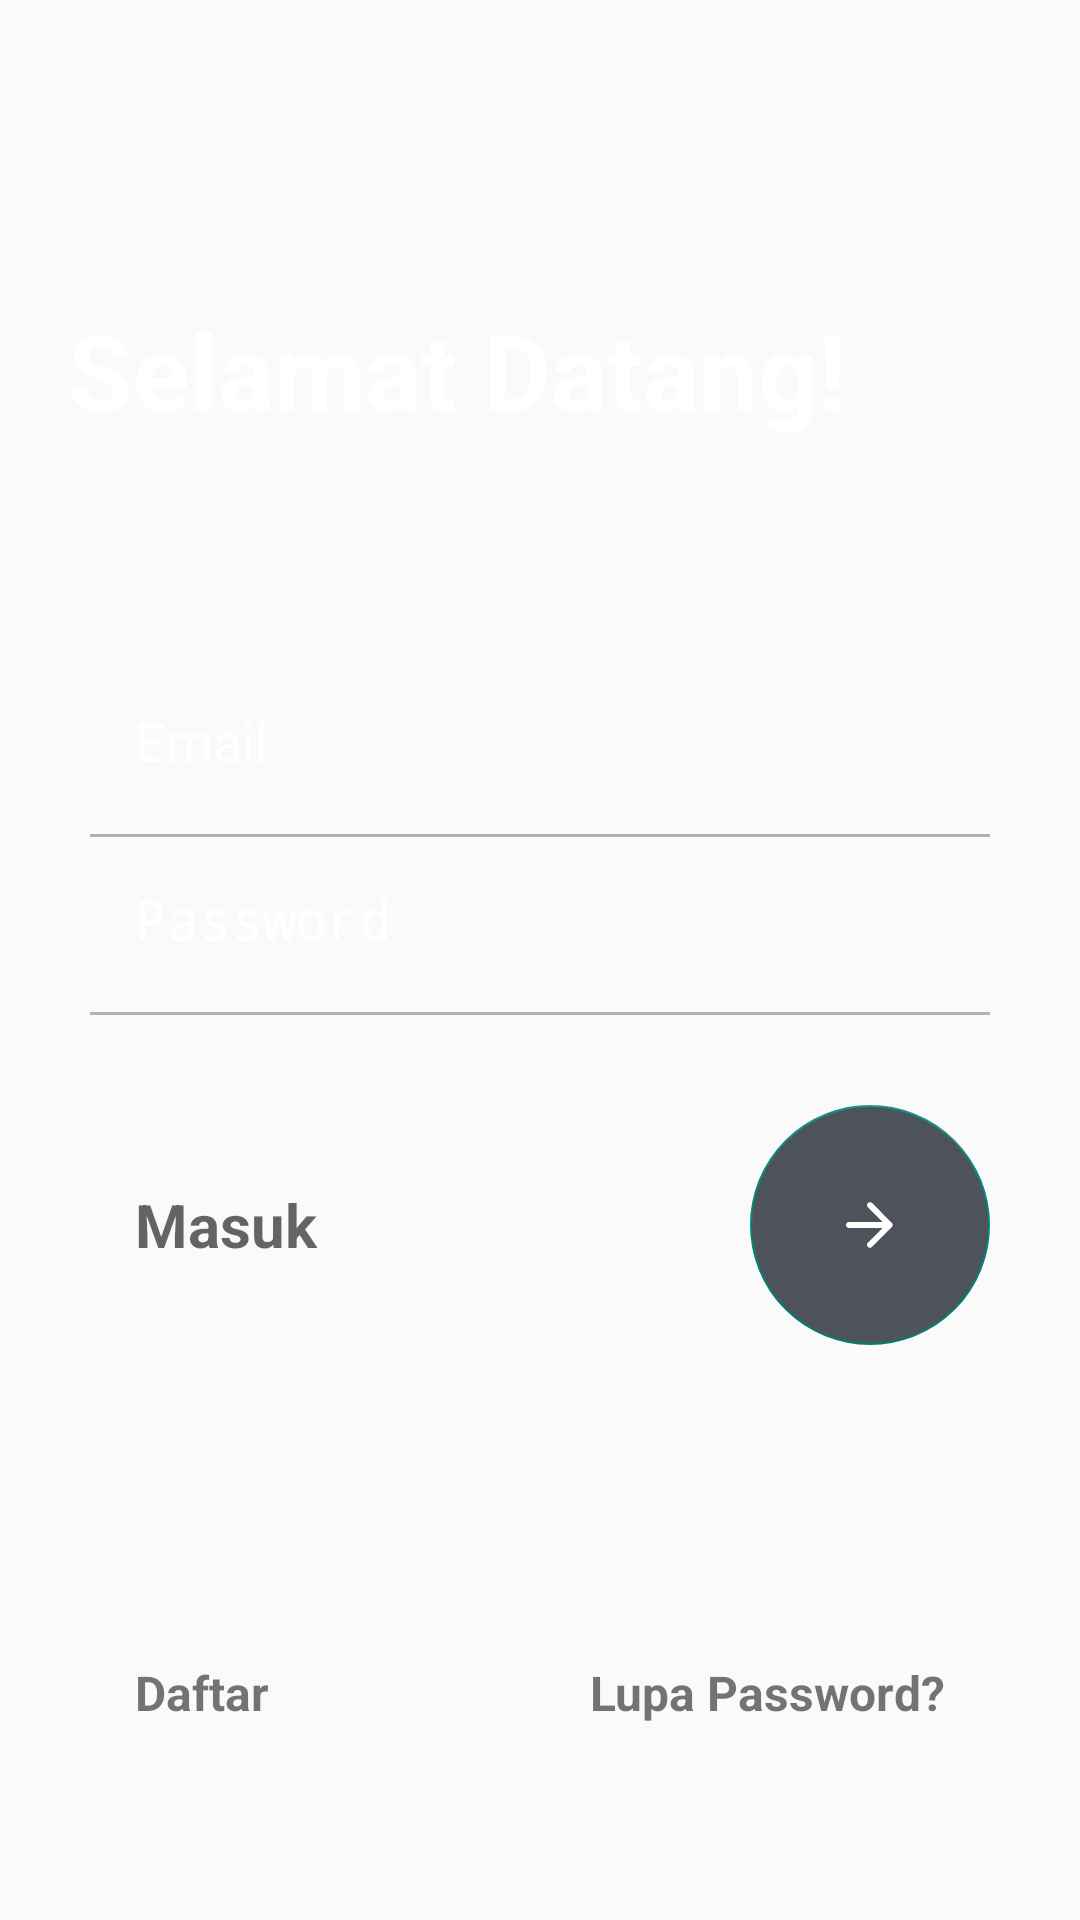

Where to tap for icons on this 1080w x 1920h app screen, as [x,y]:
arrow fwd: [870,1225]
